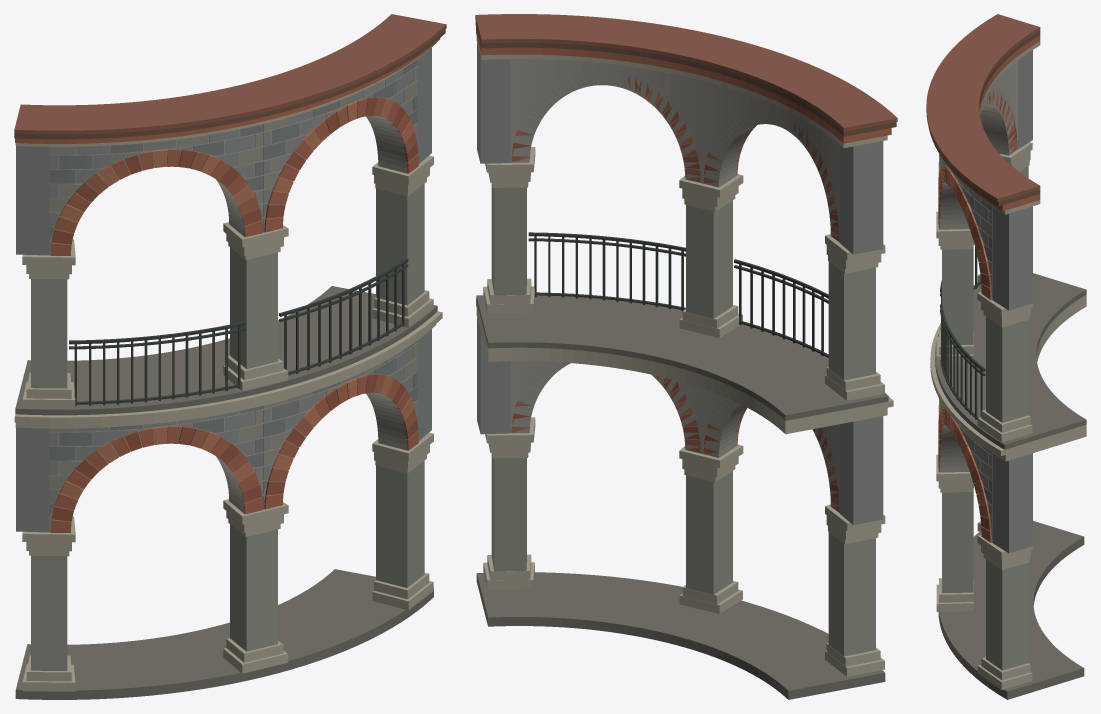
Rendered from hongkou-yihong-garden-curved-double-arcade-lod.glb.
3 views of the same model, side by side, from view 1: azimuth 30°, elevation 25°; view 2: azimuth 150°, elevation 25°; view 3: azimuth 270°, elevation 25° (orthographic). The views are drawn at different scales.
Parts seen in each view (by area): view 1: 扆虹园弧形端廊上下双券与铸铁栏杆; view 2: 扆虹园弧形端廊上下双券与铸铁栏杆; view 3: 扆虹园弧形端廊上下双券与铸铁栏杆.
Boxes of the visible parts, x1,y1,x2,y2 form: 扆虹园弧形端廊上下双券与铸铁栏杆: (14, 14, 446, 699); 扆虹园弧形端廊上下双券与铸铁栏杆: (475, 14, 897, 699); 扆虹园弧形端廊上下双券与铸铁栏杆: (926, 14, 1086, 699).
Bounding box in the file's own units: 4.51 × 5.73 × 1.65.
